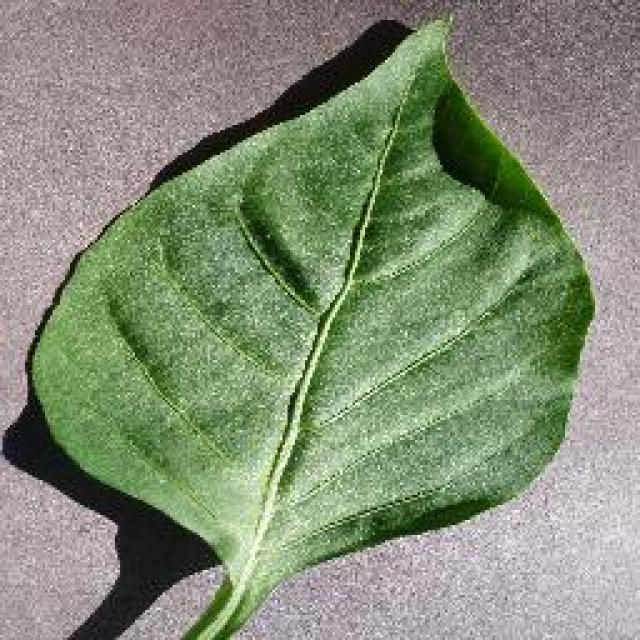Chilli_Healthy: (23, 10, 595, 638)
